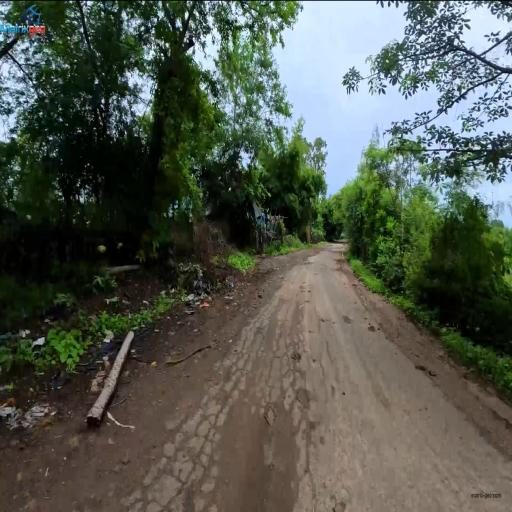alligator_crack: (235, 343, 321, 413), (184, 424, 225, 497)
